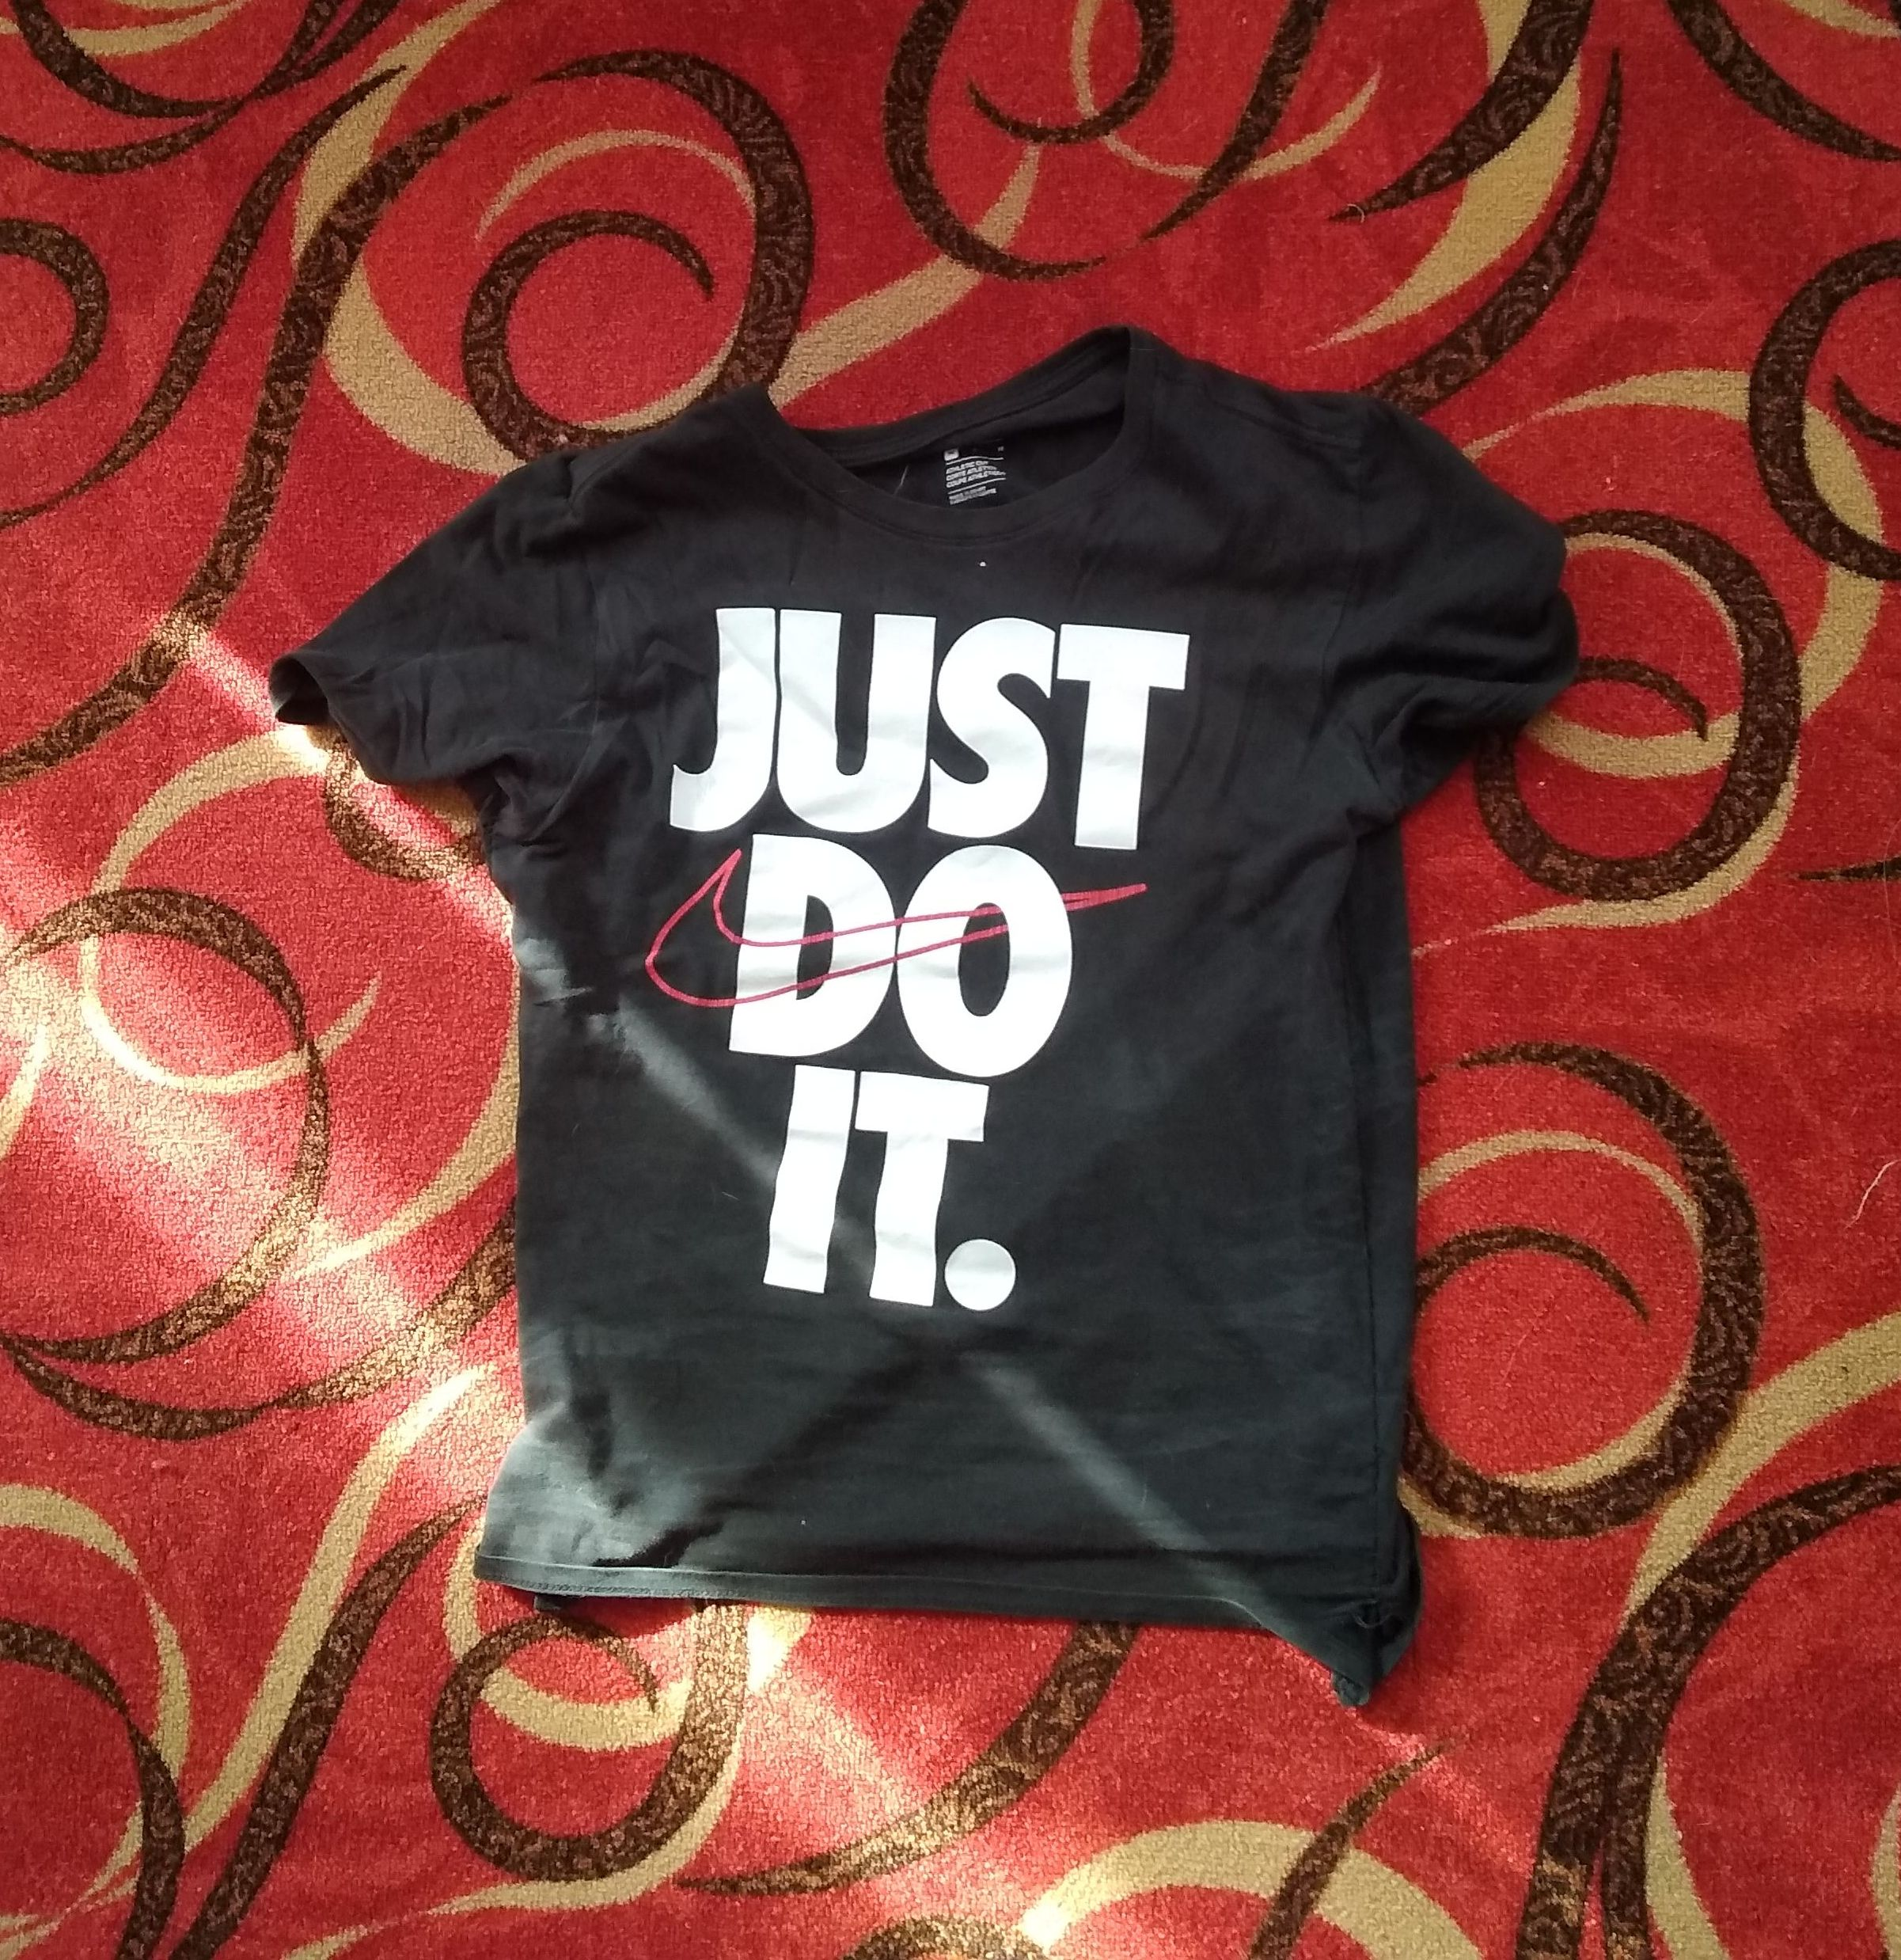clothes: (248, 333, 1605, 1701)
